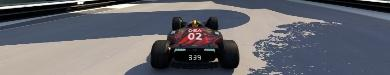Car: (149, 15, 239, 69)
obstacles-Borders: (0, 0, 78, 23)
